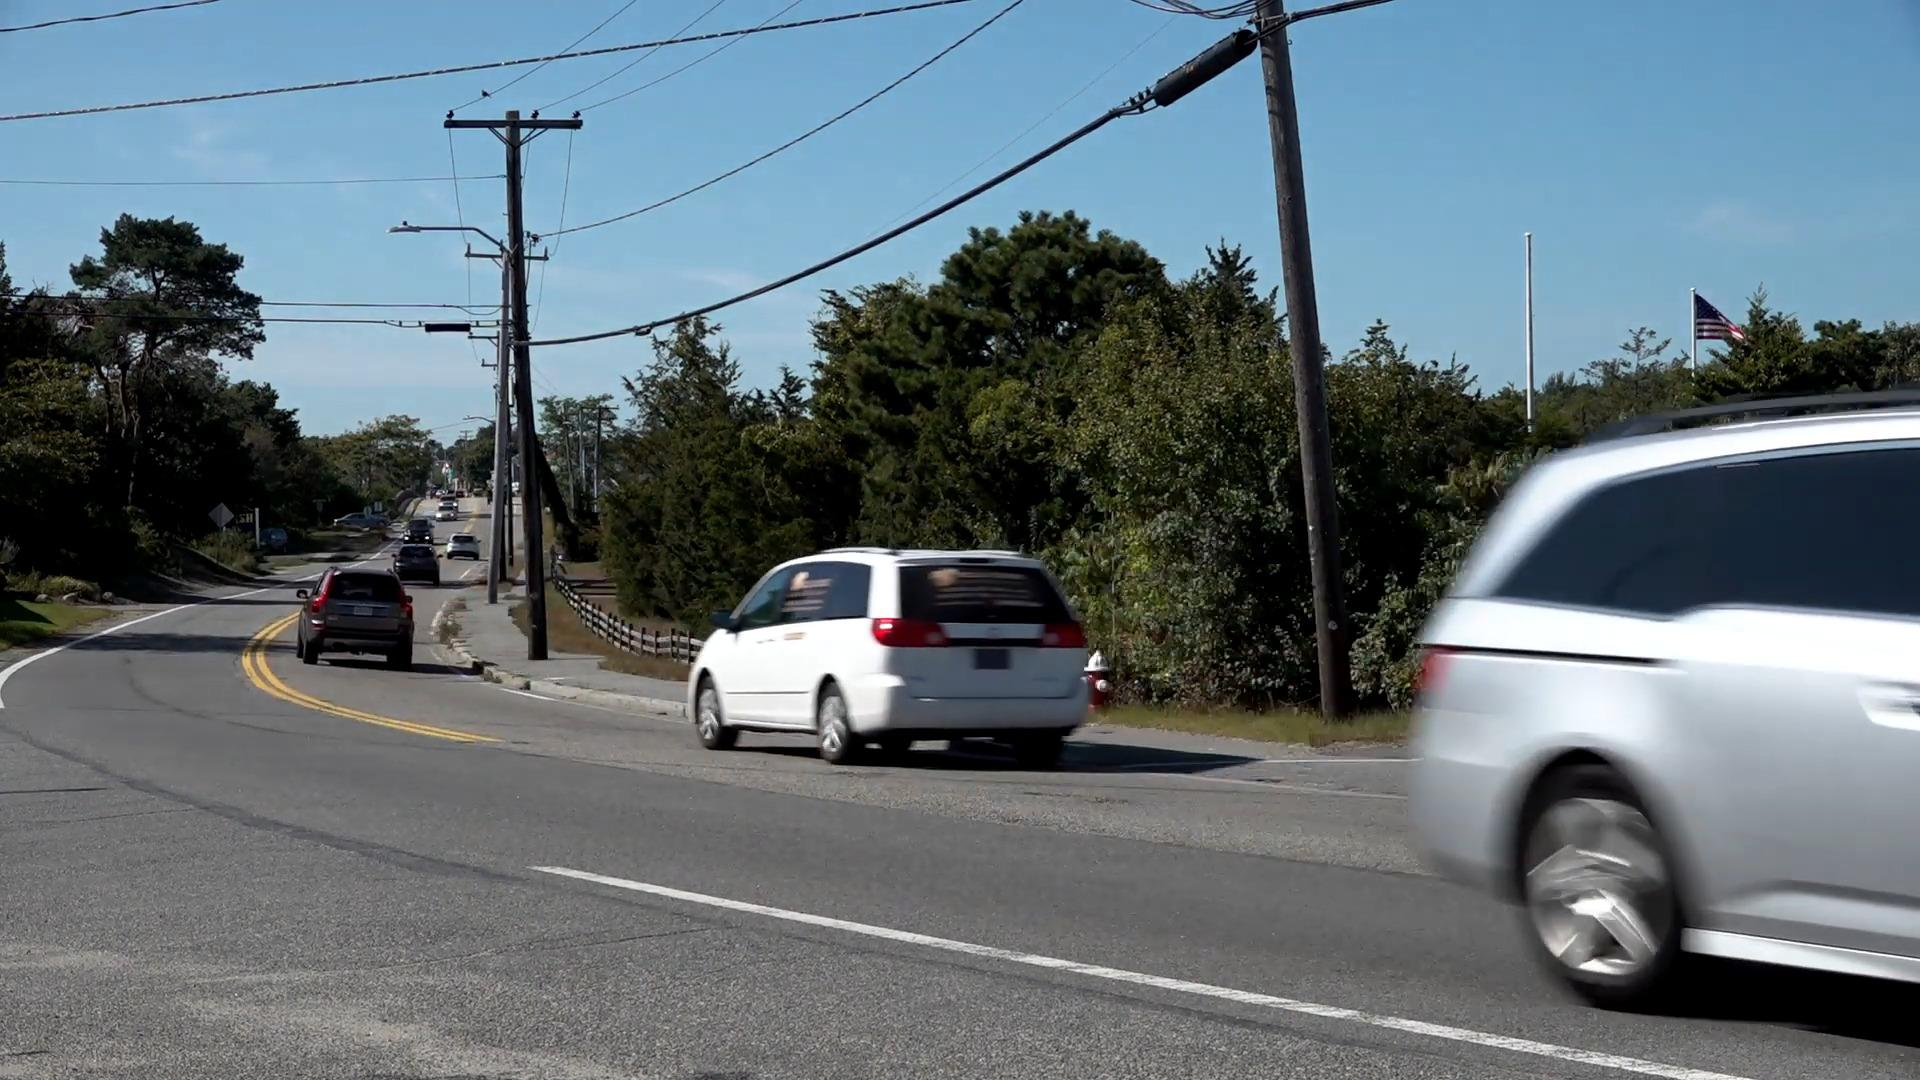minivan: (1413, 402, 1920, 1031), (689, 548, 1096, 773)
suv: (300, 563, 419, 673)
